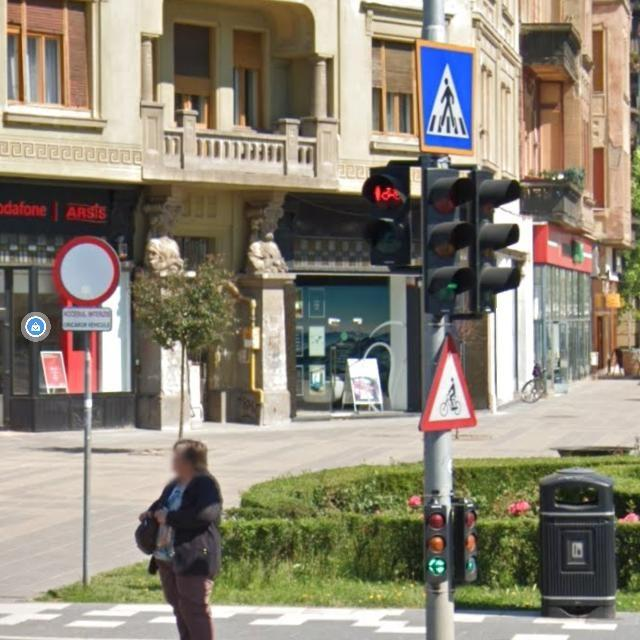info_crosswalk: (415, 38, 475, 157)
